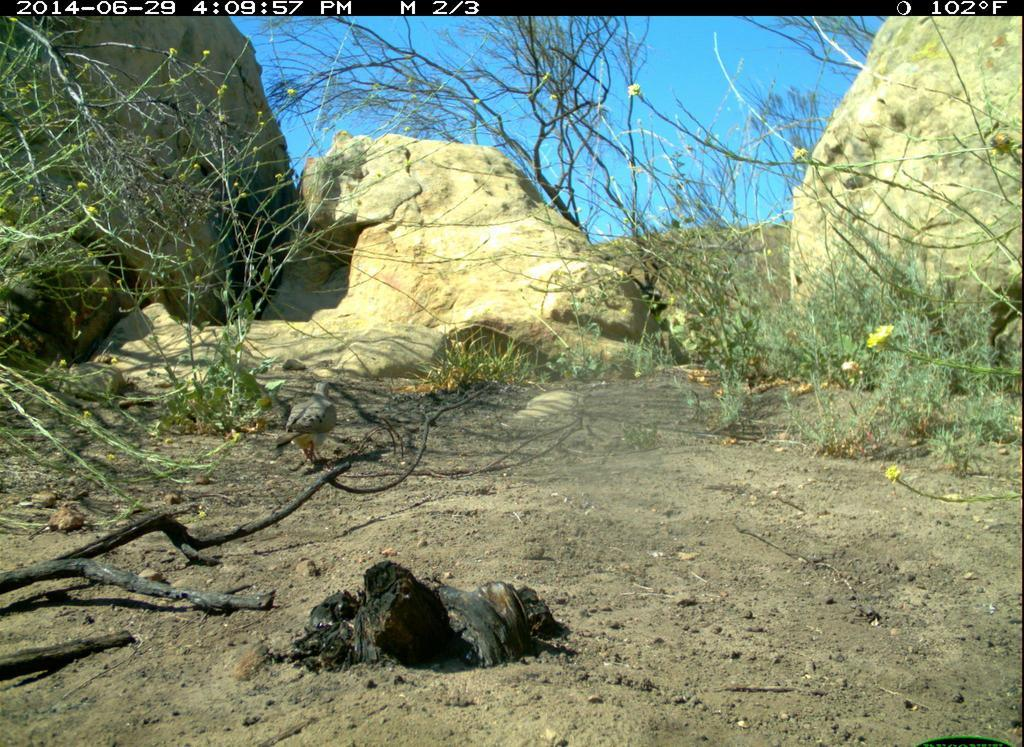bird: (273, 379, 341, 468)
